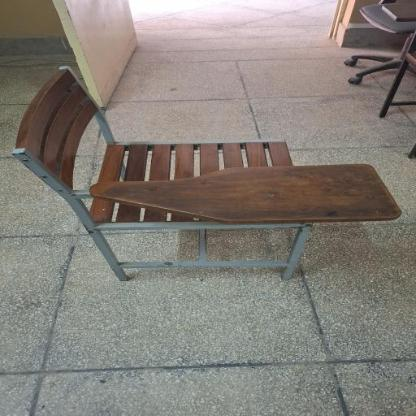chair: (7, 63, 410, 288)
